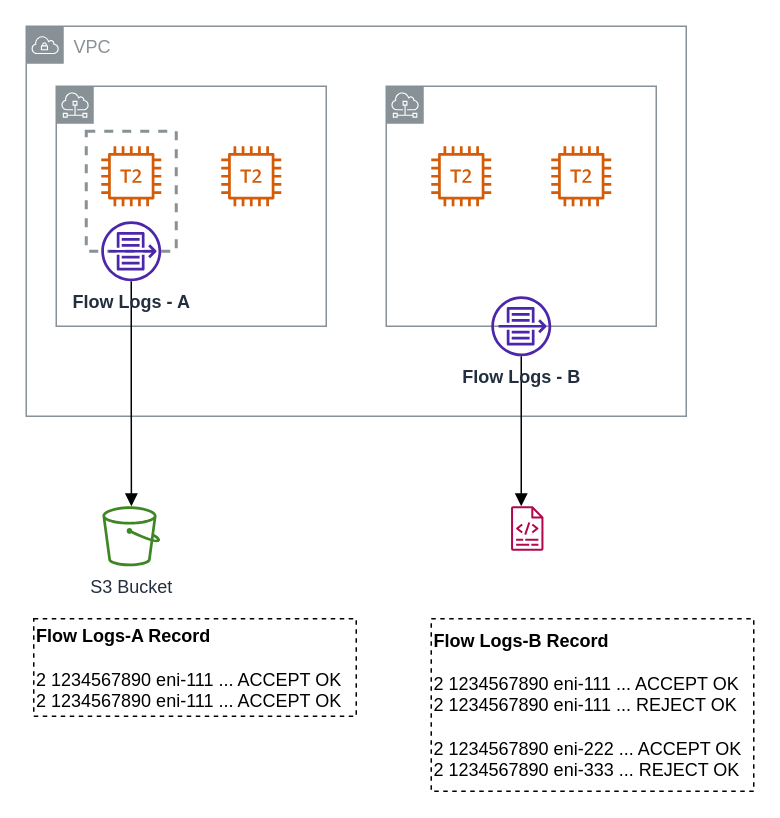
Some shapes in this 780 by 818 pixel diagram are drawn without their labels. The shapes that lost their labels are listed below. From the top down, each one's box as (x1, y1, x2, y2) in pixels, then its label:
(55, 85, 326, 326): Subnet A
(385, 85, 656, 326): Subnet B
(496, 506, 556, 550): CloudWatch Logs
